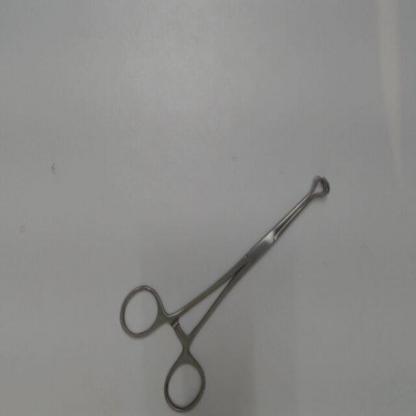Babcock Tissue Forceps: (115, 169, 334, 415)
